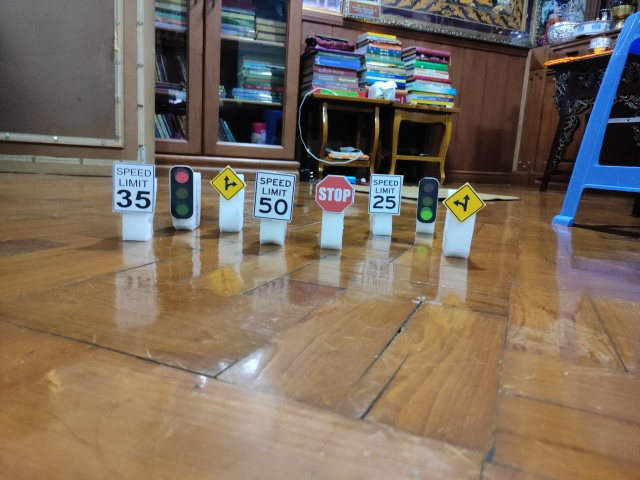Green Traffic Light: (416, 177, 440, 223)
Red Traffic Light: (168, 165, 195, 219)
Speed Limit 25: (368, 173, 403, 214)
Speed Limit 35: (112, 162, 156, 214)
Speed Limit 50: (253, 171, 297, 220)
Stop Sign: (314, 175, 356, 213)
Straight Or Left Sign: (444, 184, 484, 220)
Straight Or Right Sign: (211, 166, 246, 200)
